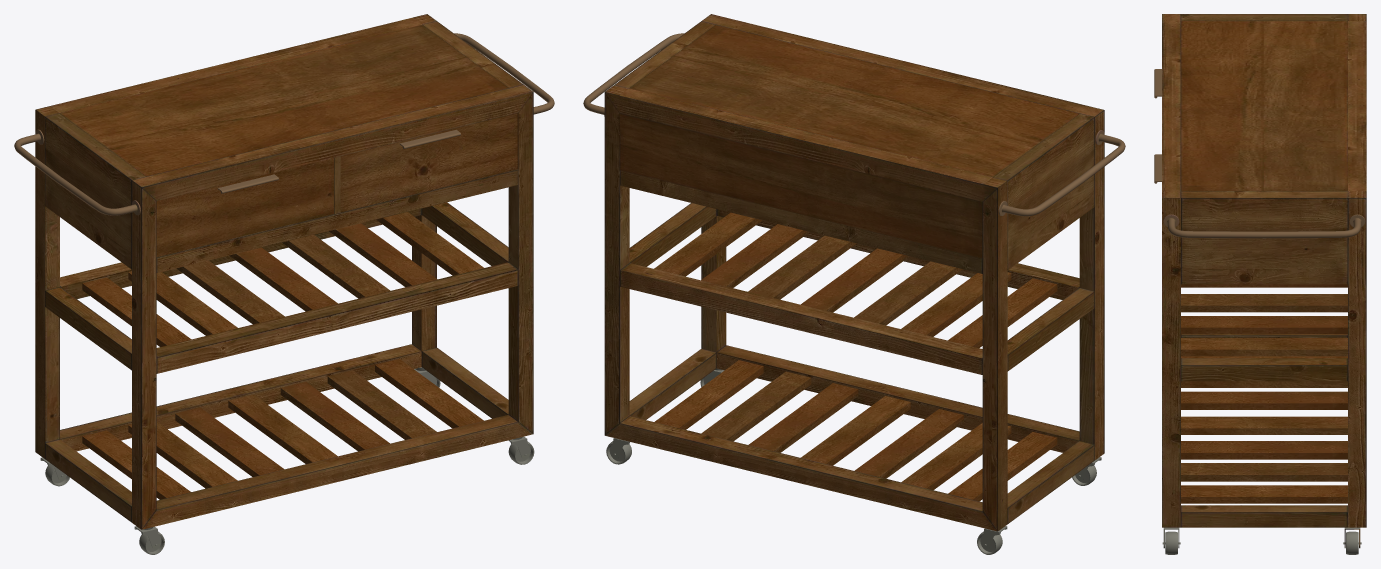
Rendered from abo-B07B78LXZ1.glb.
The picture shows the model from 3 angles, left to right: view 1: azimuth 30°, elevation 25°; view 2: azimuth 150°, elevation 25°; view 3: azimuth 270°, elevation 25°; orthographic projection. The views are drawn at different scales.
Bounding box in the file's own units: 1.06 × 0.83 × 0.445.
1 material, 1 textured.
